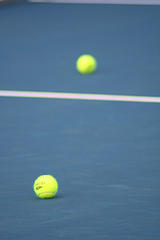tennis ball: (31, 172, 59, 199), (74, 53, 99, 75)
